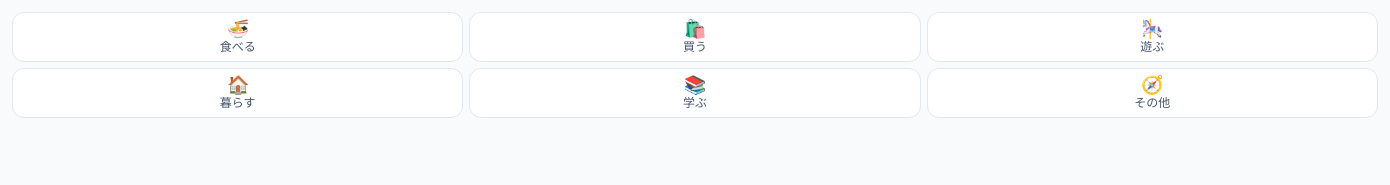
Test: CategoryPicker（mobile: 目的チップ） › 同じ目的チップを再タップすると展開が閉じる
Click the button "🛍️ 買う" at (695, 37), box [469,12,921,62]
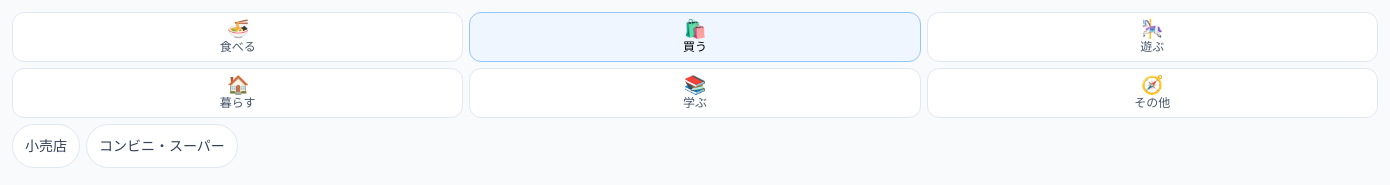
Now the button "コンビニ・スーパー" is shown, box [86,124,238,168]
Click the button "🛍️ 買う" at (695, 37), box [469,12,921,62]
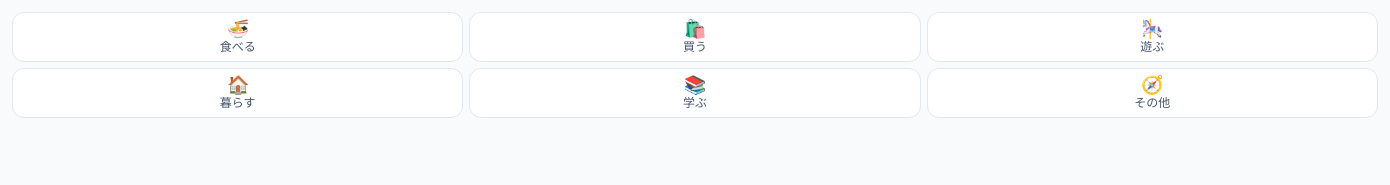
Now the button "コンビニ・スーパー" is gone
